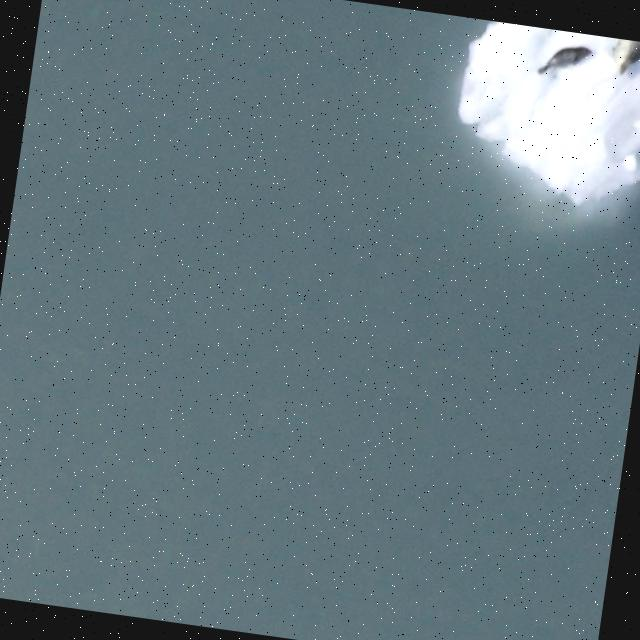seal: (533, 42, 596, 76)
